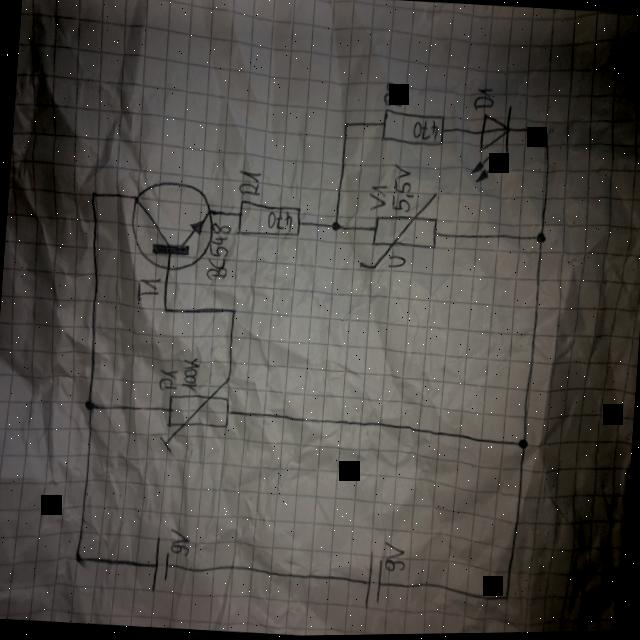diode: (468, 104, 512, 187)
junction: (70, 547, 86, 567), (516, 437, 530, 454), (82, 396, 96, 413), (328, 219, 342, 236), (534, 230, 546, 249), (88, 186, 99, 201), (227, 304, 238, 319), (340, 117, 351, 131), (540, 127, 549, 143), (159, 303, 170, 316), (502, 592, 511, 605)
resistor: (158, 373, 232, 459), (377, 106, 449, 153), (232, 195, 302, 243)
source: (148, 534, 172, 597), (362, 550, 385, 615)
text: (204, 221, 232, 283), (389, 164, 416, 214), (381, 541, 406, 575), (134, 274, 162, 303), (236, 167, 262, 198), (410, 118, 440, 144), (180, 355, 200, 392), (167, 528, 191, 558), (264, 210, 294, 234), (472, 84, 496, 114), (381, 80, 405, 109), (366, 184, 388, 213), (156, 366, 178, 393), (386, 252, 406, 272)
transistor: (127, 175, 216, 276)
